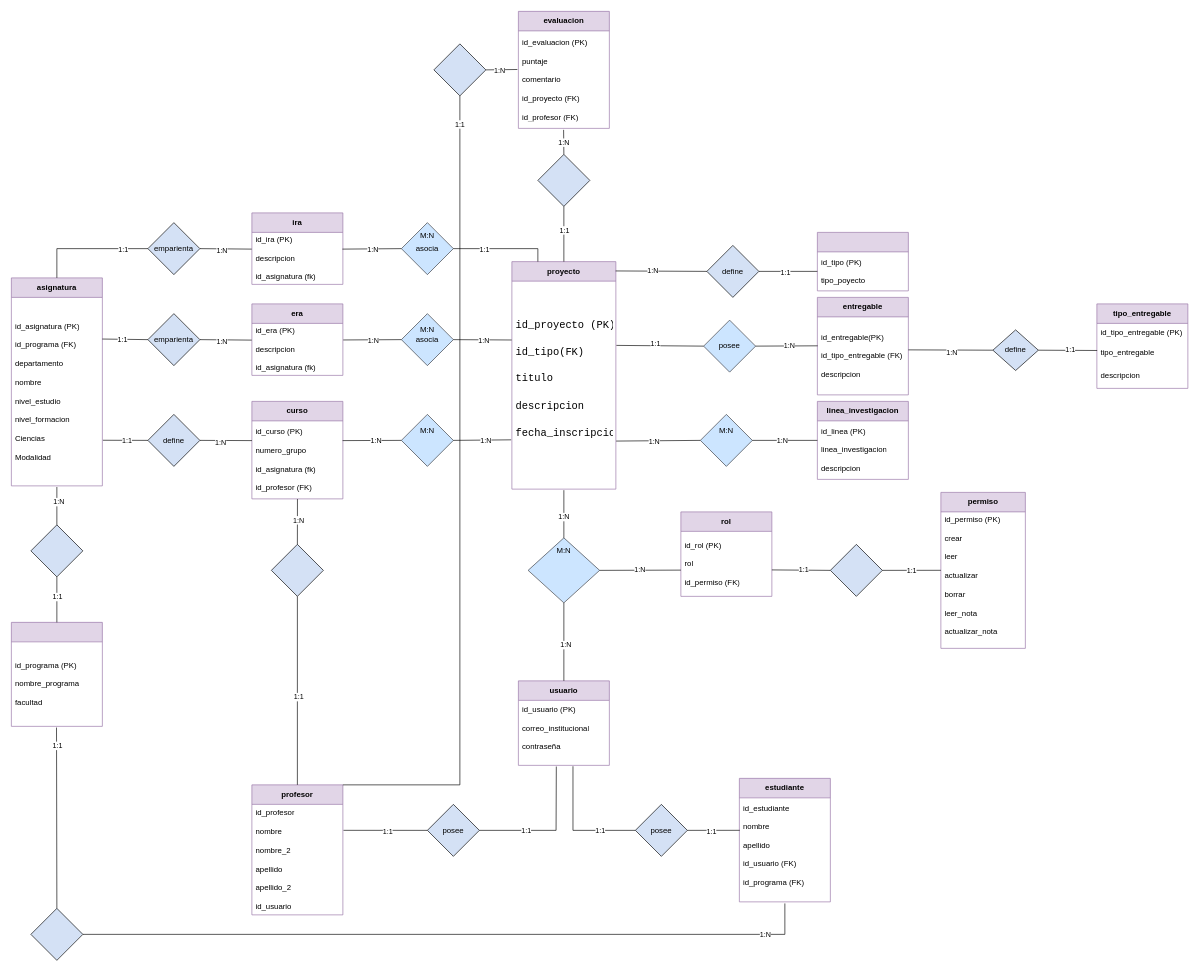
Some shapes in this 1199 by 972 pixel diagram are drawn without their labels. The box of each missing label's shape, as (x1, y1, x2, y2) in pixels:
determina: (433, 43, 486, 96)
dispone: (30, 524, 83, 577)
enfoca: (700, 414, 752, 466)
estudia: (30, 908, 83, 960)
evalua: (537, 154, 590, 206)
instruye: (271, 544, 323, 596)
participa (proyecto, usuario, rol): (527, 537, 600, 603)
programa_academico: (11, 622, 102, 726)
restringe: (830, 544, 882, 596)
tipo_proyecto: (817, 232, 908, 291)
vincula: (401, 414, 453, 466)
